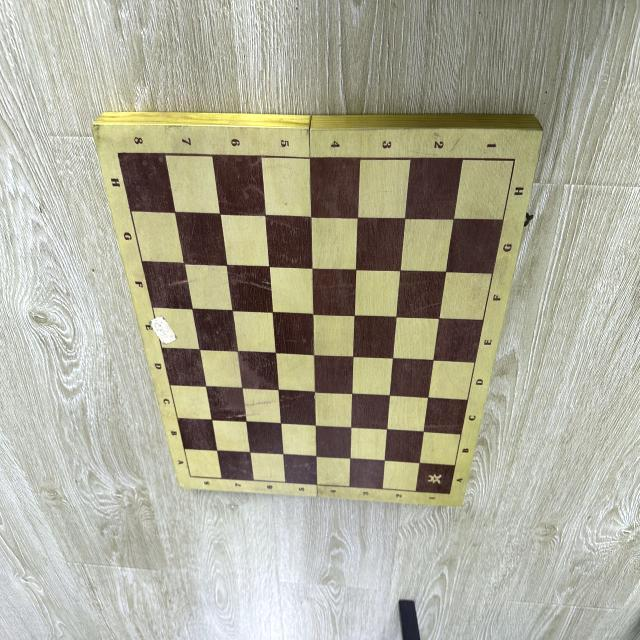chess-table-corners: (510, 154, 520, 166), (112, 148, 122, 158), (187, 471, 194, 481), (446, 490, 454, 498)
